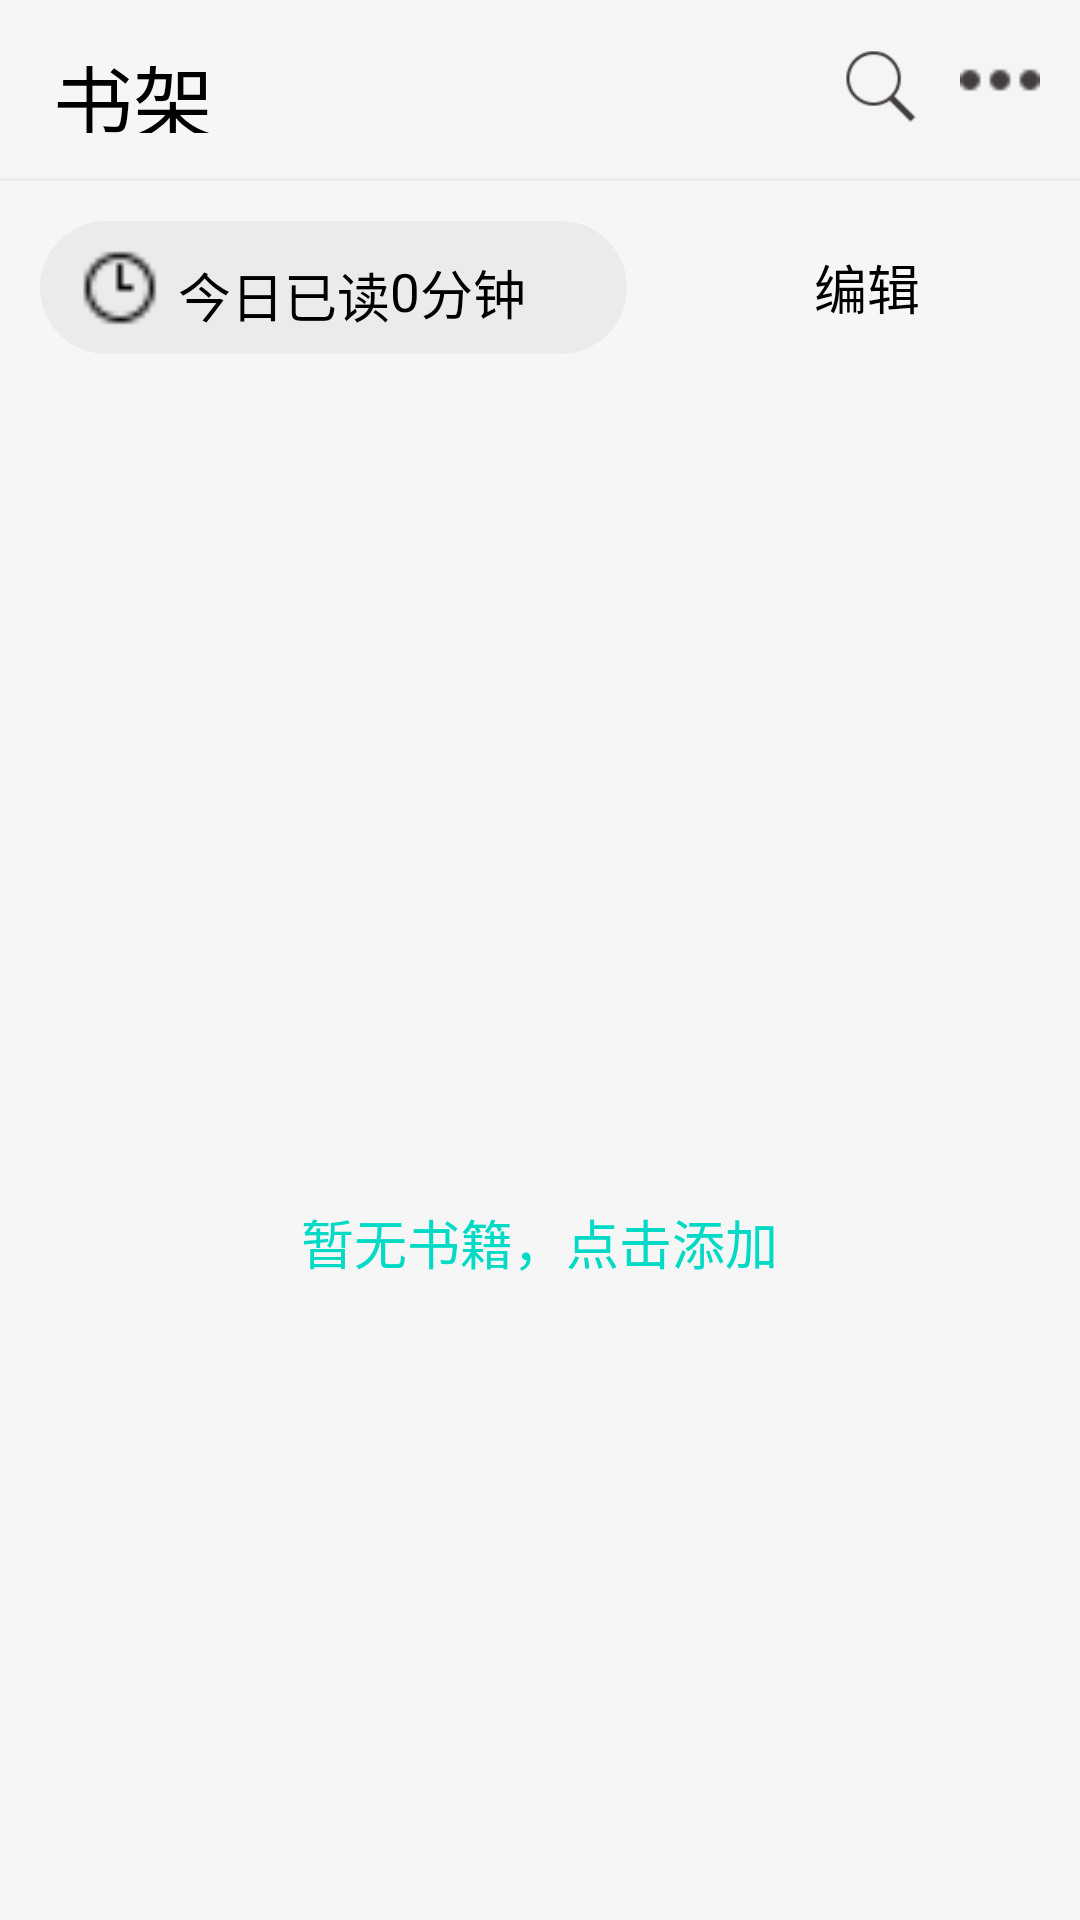

Named icons in this screenshot (1080 × 1920) and their bounding boxes, (x1, y1, x2, y2):
搜索: (846, 51, 916, 122)
更多: (960, 69, 1040, 91)
